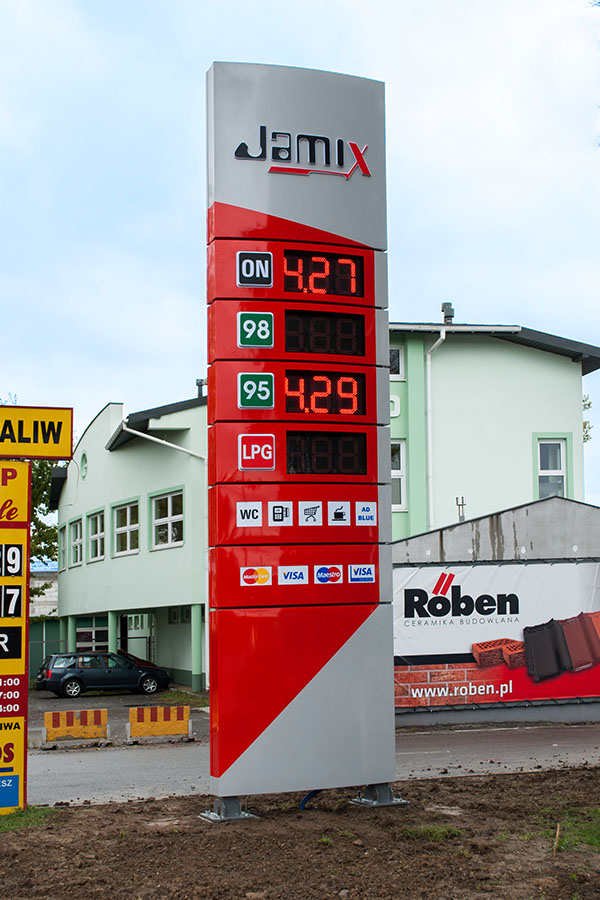LPG: (235, 431, 275, 473)
ON: (236, 246, 274, 285)
PB95: (235, 370, 273, 408)
PB98: (239, 311, 271, 345)
